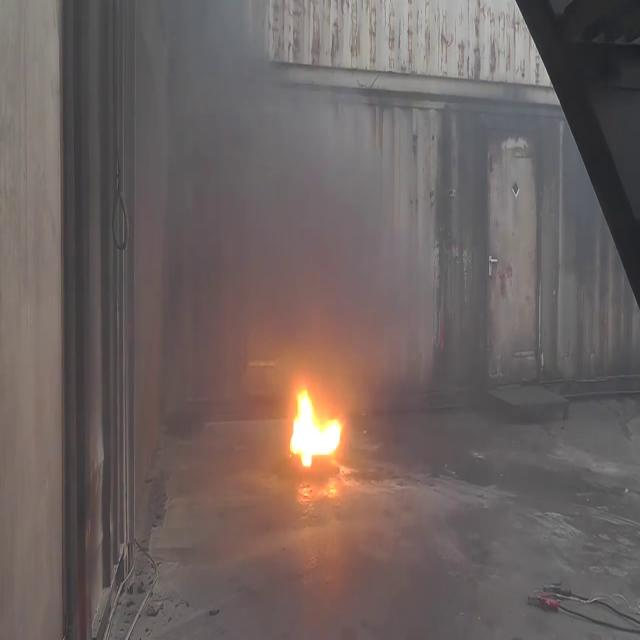Fire: (284, 379, 348, 477)
Smoke: (108, 0, 410, 341)
